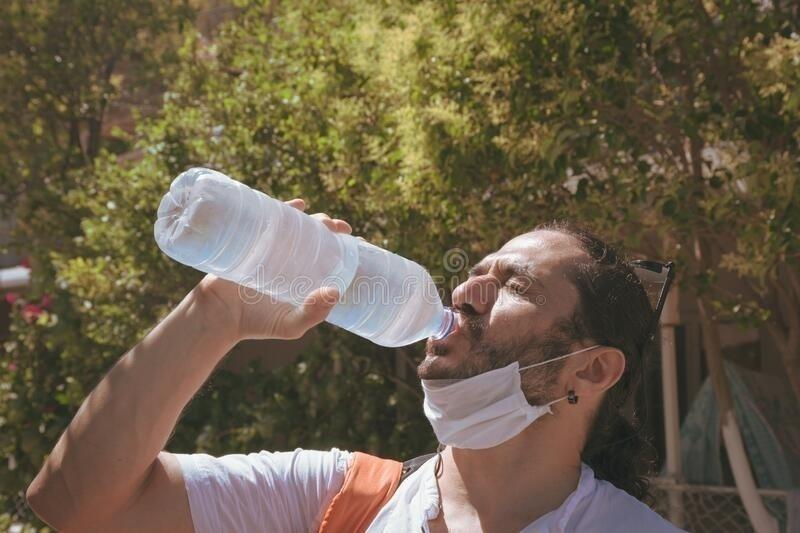bottle-plastic: (154, 167, 454, 348)
